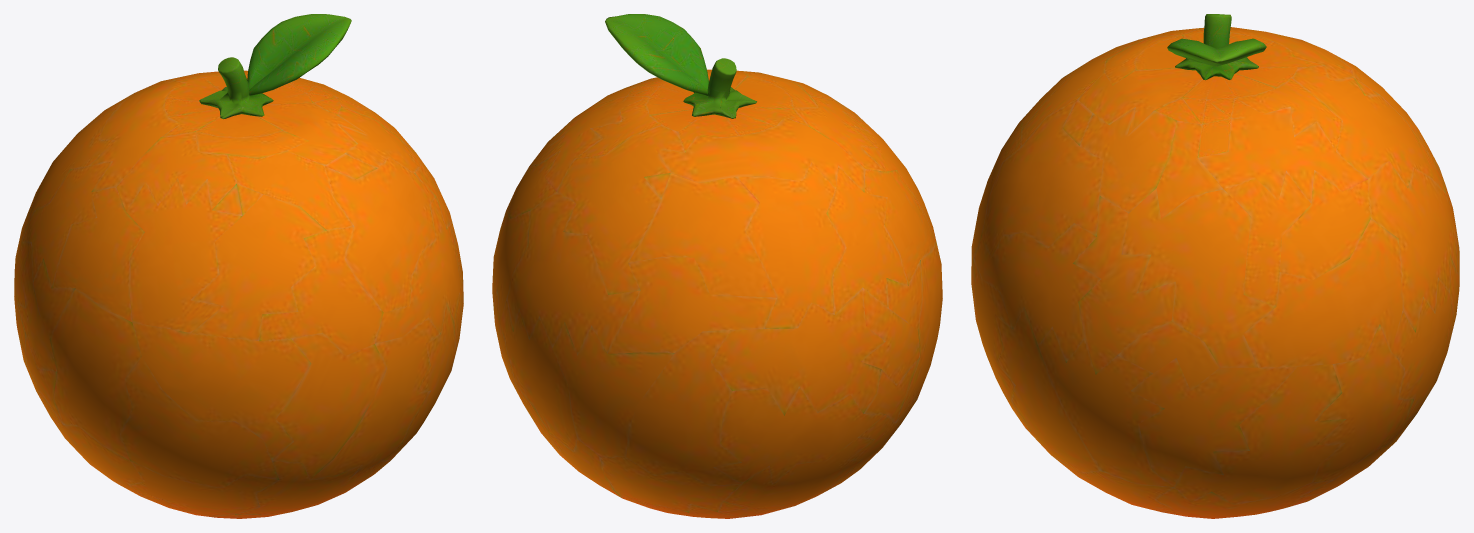
Rendered from f04_orange.glb.
3 renders of one model, left to right at view 1: azimuth 30°, elevation 25°; view 2: azimuth 150°, elevation 25°; view 3: azimuth 270°, elevation 25°, orthographic. The views are drawn at different scales.
Parts seen in each view (by area): view 1: geometry_0; view 2: geometry_0; view 3: geometry_0.
Part boxes in pixels (box(x1,y1,x2,y2)): geometry_0: box(14, 14, 463, 518); geometry_0: box(492, 14, 942, 518); geometry_0: box(971, 14, 1459, 518).
Bounding box in the file's own units: 0.8745 × 0.9512 × 0.8696.
Materials: 1 (1 with a texture image).
